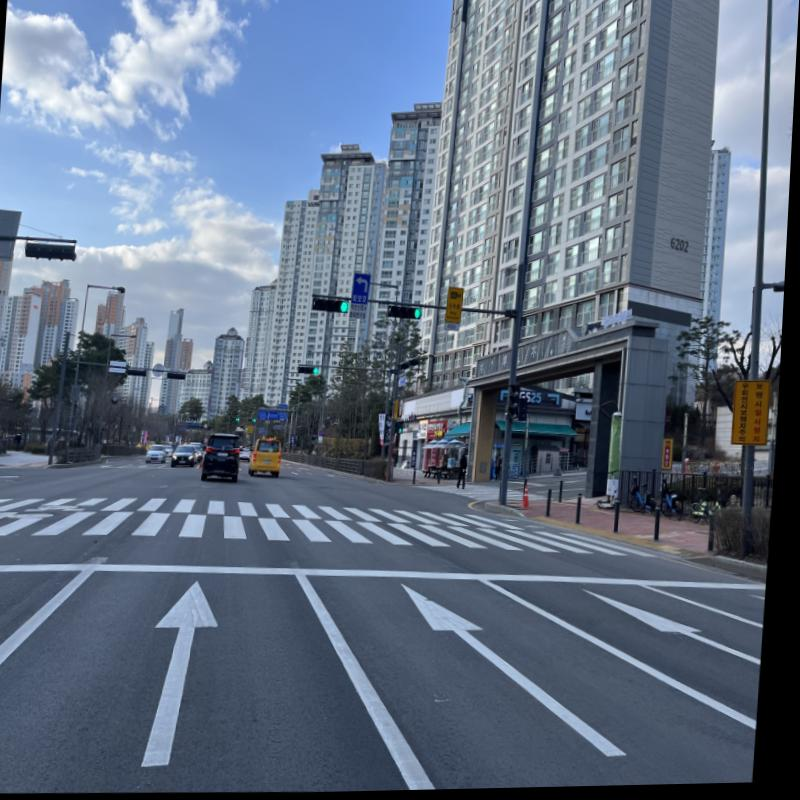green: (342, 303, 352, 314), (416, 310, 424, 320), (316, 370, 323, 375)
